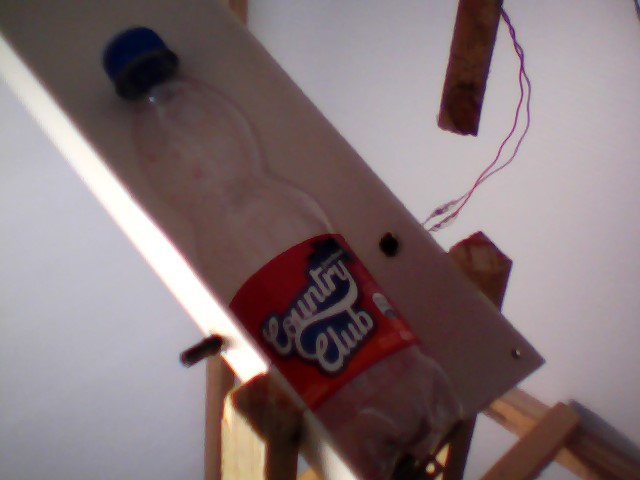plastico: (97, 16, 476, 480)
